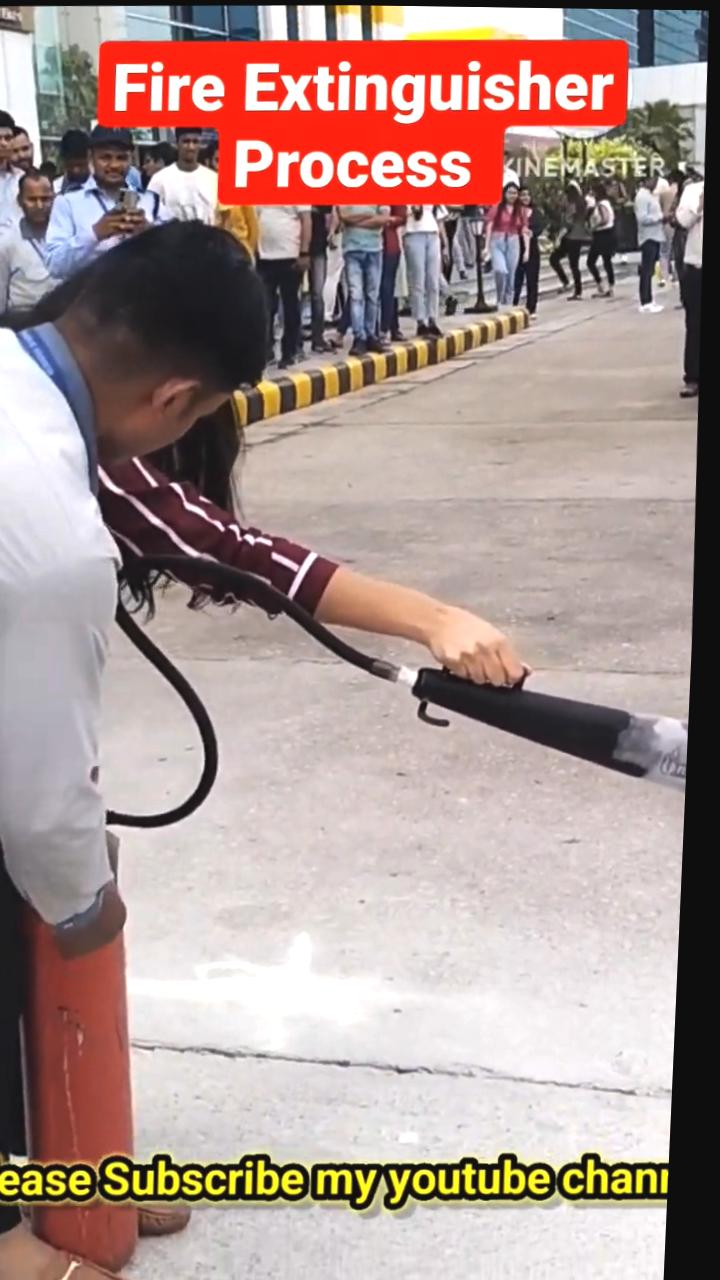FireExtinguisher: (0, 875, 200, 1280)
not: (103, 371, 388, 630), (487, 185, 545, 248)
